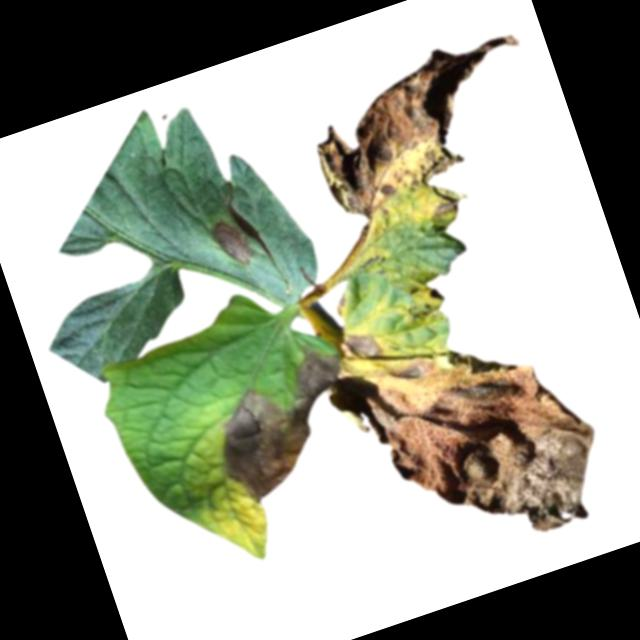Early_blight: (361, 312, 621, 572), (291, 22, 566, 252), (196, 342, 376, 510), (210, 214, 255, 271), (342, 325, 384, 365), (426, 285, 445, 305)
